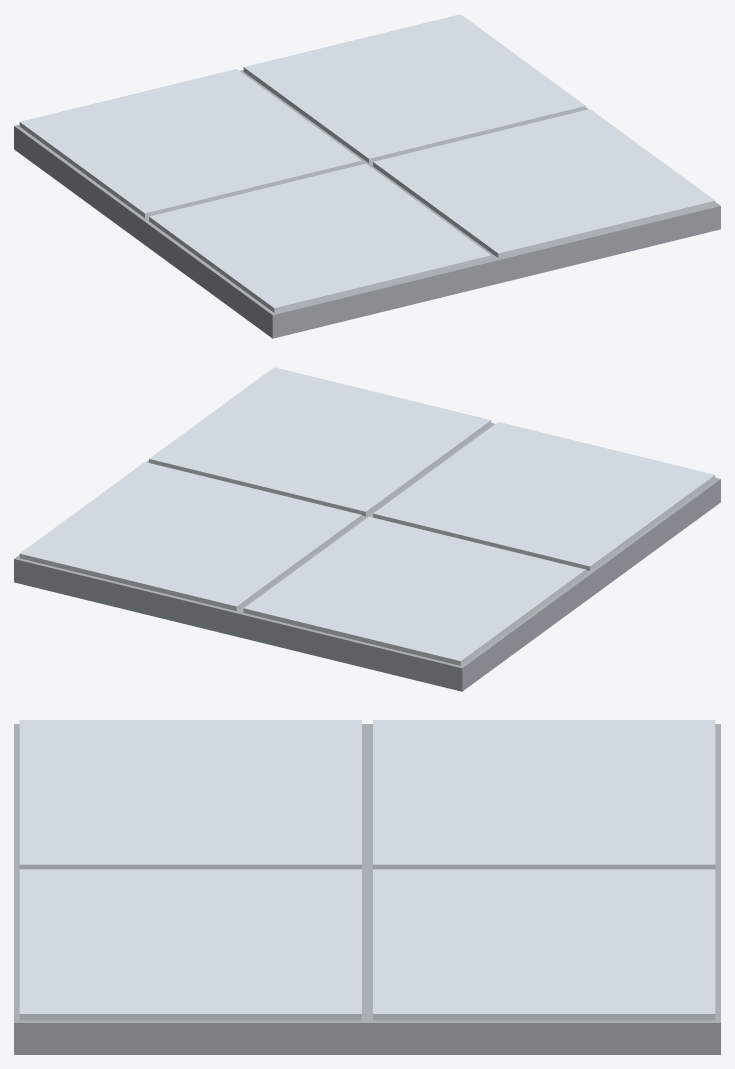
The model's file is floor_white.glb.
The picture shows the model from 3 angles, top to bottom: view 1: azimuth 30°, elevation 25°; view 2: azimuth 150°, elevation 25°; view 3: azimuth 270°, elevation 25°; orthographic projection. The views are drawn at different scales.
Visible parts, largest first — view 1: floor_white; view 2: floor_white; view 3: floor_white.
Boxes of the visible parts, x1,y1,x2,y2 form: floor_white: (14, 14, 720, 338); floor_white: (14, 367, 720, 691); floor_white: (14, 720, 720, 1054).
Bounding box in the file's own units: 1 × 0.06 × 1.
1 material, 1 textured.
